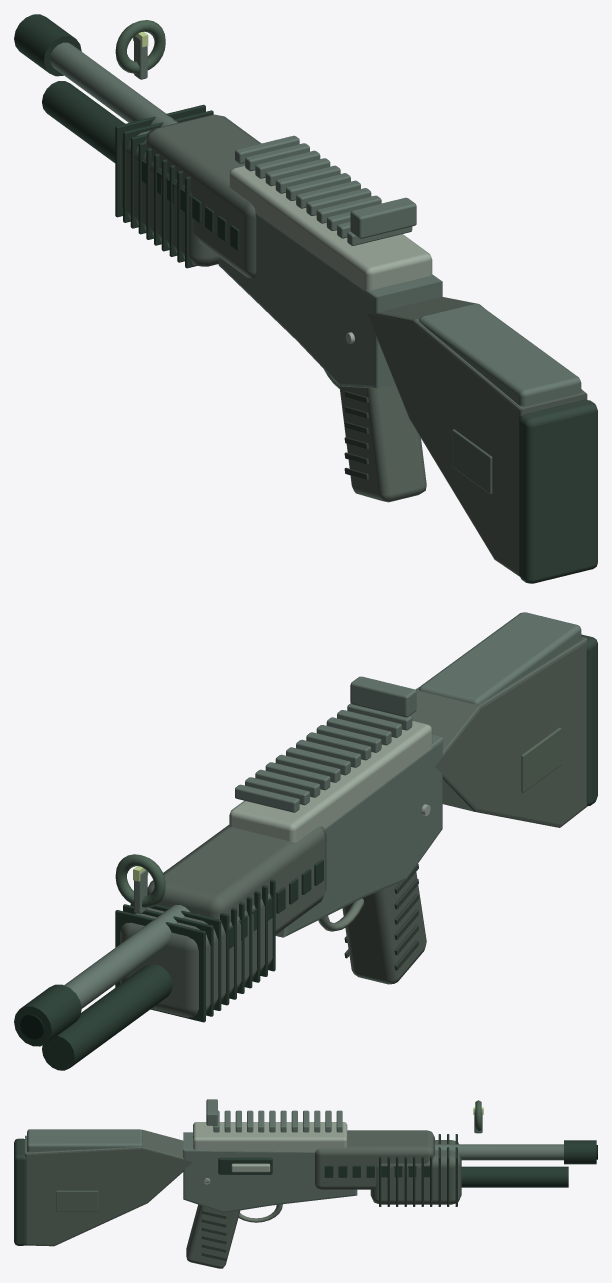
The picture shows the model from 3 angles, top to bottom: view 1: azimuth 30°, elevation 25°; view 2: azimuth 150°, elevation 25°; view 3: azimuth 270°, elevation 25°; orthographic projection. The views are drawn at different scales.
Parts seen in each view (by area): view 1: xm1014, pump; view 2: xm1014, pump; view 3: xm1014, pump, bolt.
Boxes of the visible parts, bbox=[...] form: xm1014: bbox=[14, 14, 597, 583]; pump: bbox=[115, 104, 219, 268]; xm1014: bbox=[14, 612, 597, 1070]; pump: bbox=[115, 879, 275, 1022]; xm1014: bbox=[14, 1099, 597, 1268]; pump: bbox=[370, 1134, 461, 1206]; bolt: bbox=[218, 1157, 272, 1174].
Bounding box in the file's own units: 0.151 × 0.4657 × 1.51.
